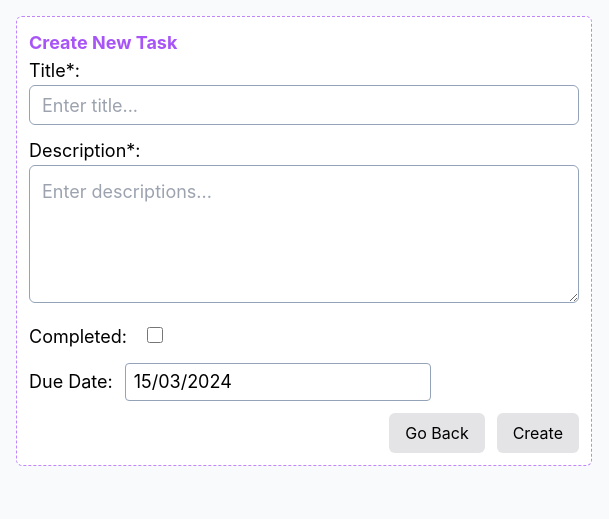
it: New Task Component › display error if form incomplete information
Click the button "Create" at (538, 433), box [497, 413, 579, 453]
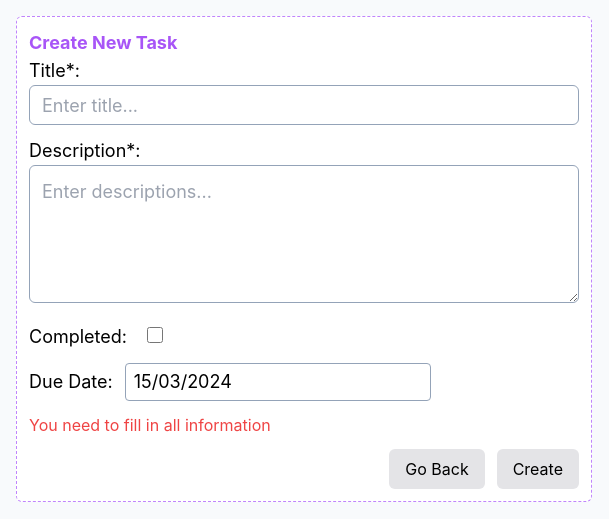
Expected: the text "You need to fill in all information" is shown, [29, 415, 271, 435]
